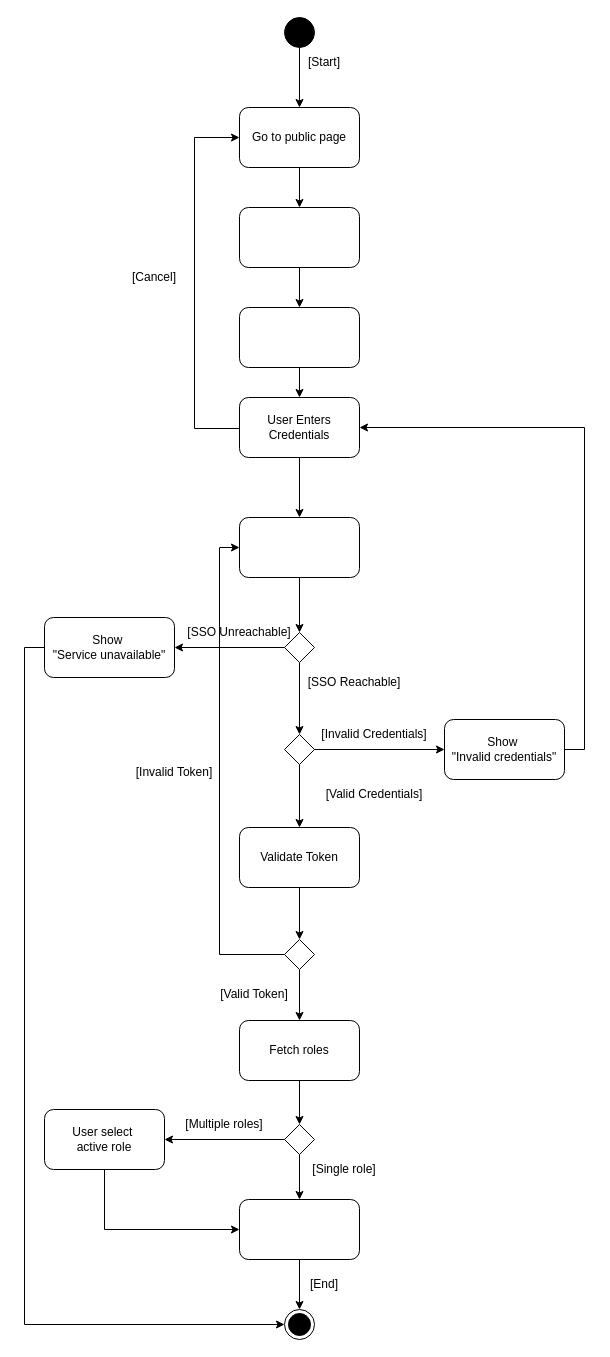
Some shapes in this 610 by 1357 pixel diagram are drawn without their labels. The box of each missing label's shape, as (x1, y1, x2, y2) in pixels:
Authenticate User: (238, 516, 360, 578)
Click Login button: (238, 206, 360, 268)
Open role dashboard: (238, 1198, 360, 1260)
Redirect to HCMUT_SSO: (238, 306, 360, 368)
